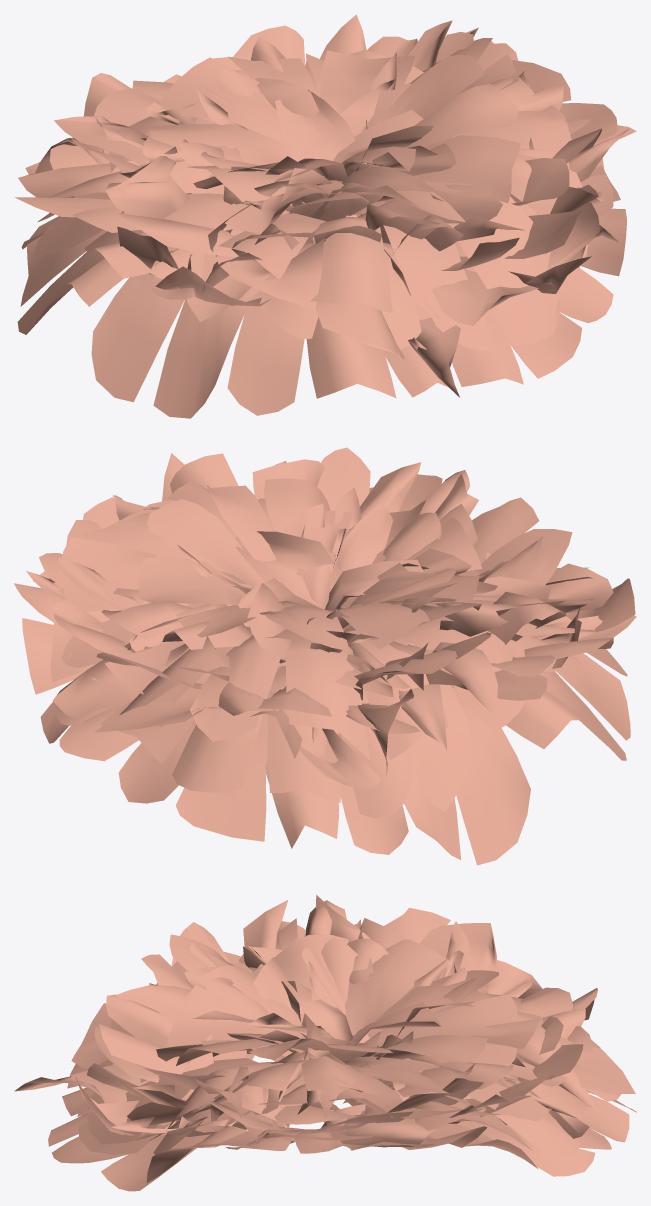
The model's file is haired_teapot.gltf.
3 renders of one model, top to bottom at view 1: azimuth 30°, elevation 25°; view 2: azimuth 150°, elevation 25°; view 3: azimuth 270°, elevation 25°, orthographic. The views are drawn at different scales.
Visible parts, largest first — view 1: 平面.002; view 2: 平面.002; view 3: 平面.002.
Boxes of the visible parts, left/top/right/bottom form: 平面.002: left=14, top=14, right=636, bottom=418; 平面.002: left=14, top=447, right=636, bottom=865; 平面.002: left=14, top=895, right=636, bottom=1191.
Bounding box in the file's own units: 2.22 × 0.8852 × 2.52.
